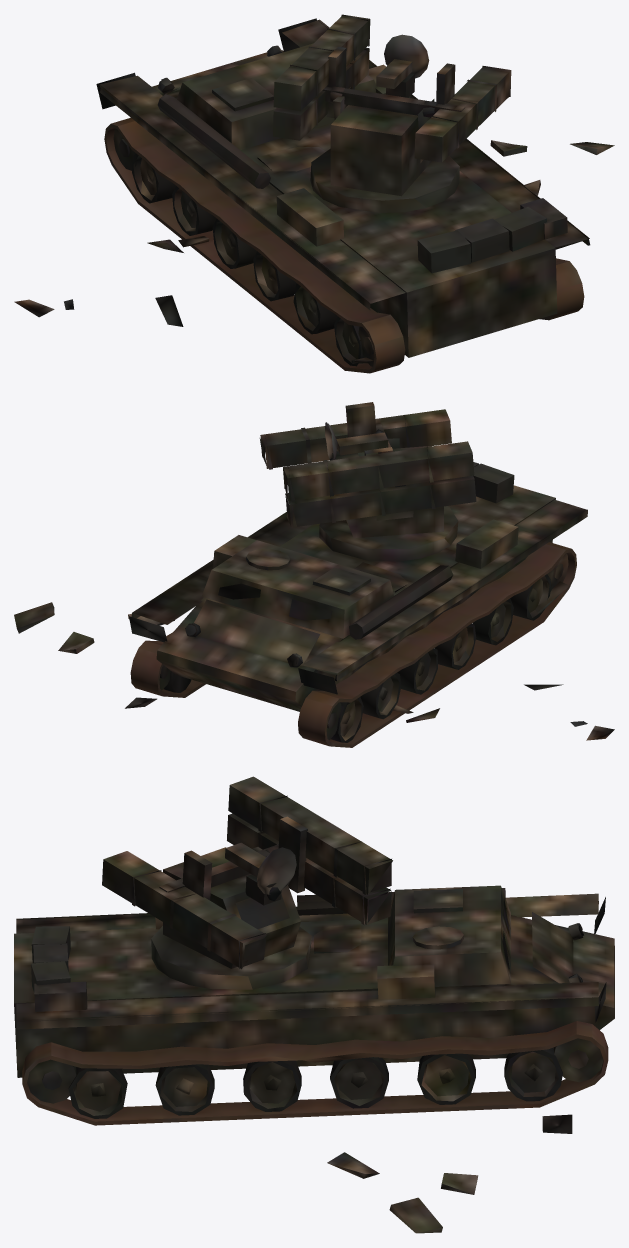
Rendered from sam_launcher_destroyed_lod1.glb.
3 views of the same model, one above another, from view 1: azimuth 30°, elevation 25°; view 2: azimuth 150°, elevation 25°; view 3: azimuth 270°, elevation 25° (orthographic). The views are drawn at different scales.
Visible parts, largest first — view 1: hull, launcher, turret, debris; view 2: hull, launcher, turret, debris; view 3: hull, launcher, turret, debris.
Boxes of the visible parts, x1=… form: hull: x1=96, y1=18, x2=590, y2=373; launcher: x1=273, y1=14, x2=511, y2=162; turret: x1=310, y1=86, x2=459, y2=212; debris: x1=14, y1=140, x2=614, y2=363; hull: x1=129, y1=462, x2=587, y2=747; launcher: x1=259, y1=402, x2=476, y2=528; turret: x1=319, y1=429, x2=458, y2=561; debris: x1=14, y1=581, x2=614, y2=740; hull: x1=14, y1=885, x2=614, y2=1125; launcher: x1=102, y1=776, x2=392, y2=969; turret: x1=151, y1=845, x2=311, y2=989; debris: x1=327, y1=1114, x2=572, y2=1233.
Size of the model in its own units: 8.13 by 2.99 by 6.34.
Materials: 1 (1 with a texture image).
